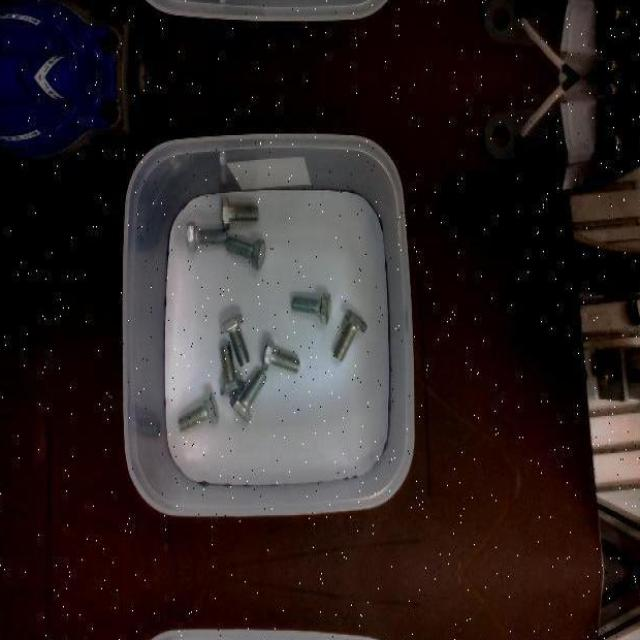screw: (230, 370, 268, 422), (177, 391, 220, 433), (334, 309, 368, 362), (220, 313, 250, 365), (262, 337, 302, 371), (186, 220, 227, 253), (220, 343, 245, 395), (292, 292, 331, 325), (226, 235, 266, 267), (222, 195, 259, 227)
